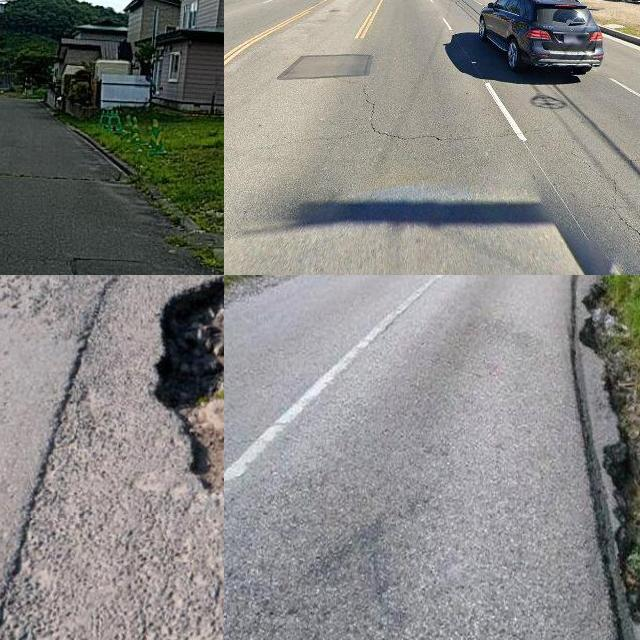Pinggir: (546, 275, 640, 640), (142, 275, 224, 525)
Sambungan: (280, 50, 373, 80), (71, 259, 161, 275)
